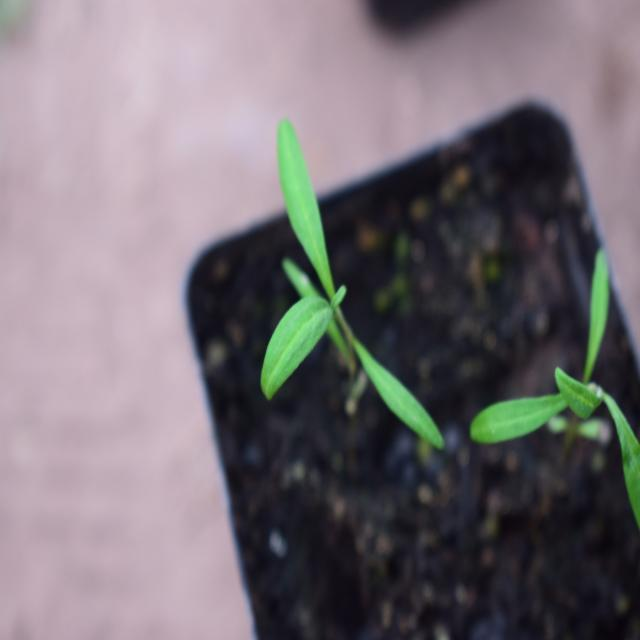white_smart_weed: (238, 118, 481, 501), (453, 241, 637, 544)
